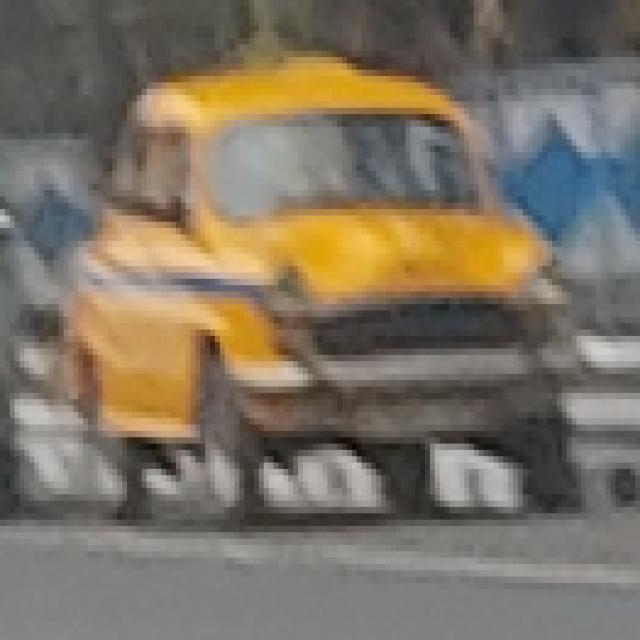ambasador_taxi: (46, 48, 618, 529)
